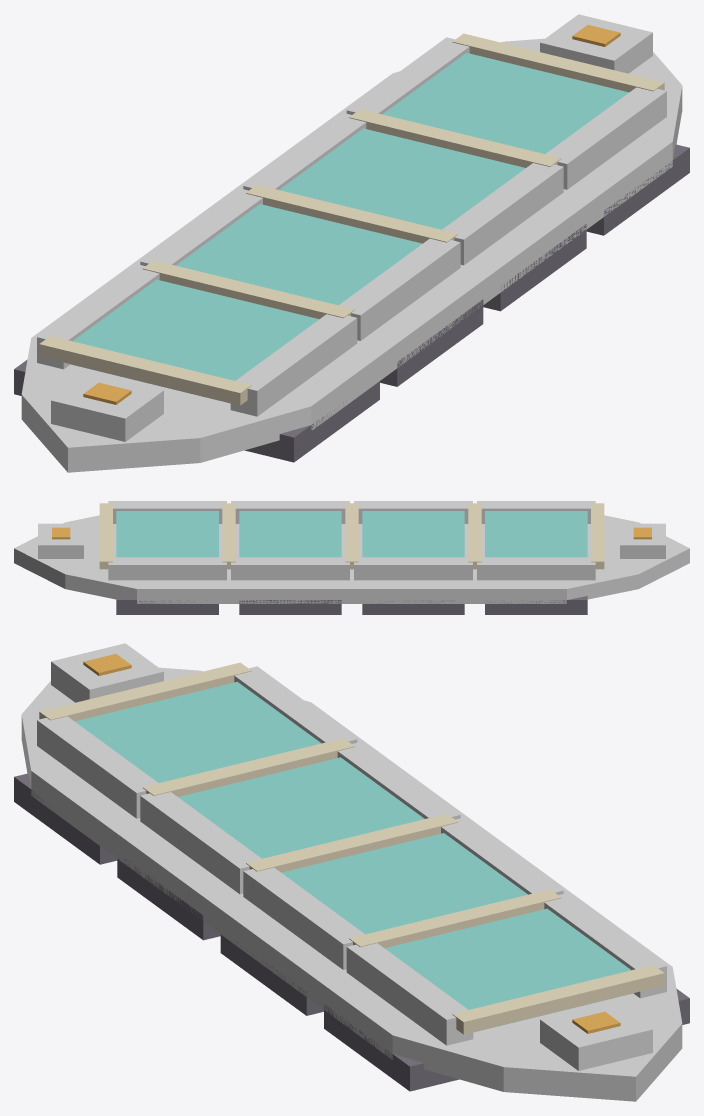
Rendered from space_road_p30.glb.
3 views of the same model, one above another, from view 1: azimuth 30°, elevation 25°; view 2: azimuth 150°, elevation 25°; view 3: azimuth 270°, elevation 25° (orthographic). The views are drawn at different scales.
Visible parts, largest first — view 1: WoodBody, FixedDetails, BrassTrim; view 2: WoodBody, FixedDetails, BrassTrim; view 3: WoodBody, FixedDetails, BrassTrim.
Boxes of the visible parts, box(x1,y1,x2,y2) form: WoodBody: box(21, 14, 682, 472); FixedDetails: box(14, 52, 689, 462); BrassTrim: box(39, 25, 664, 405); WoodBody: box(14, 501, 689, 603); FixedDetails: box(116, 511, 587, 614); BrassTrim: box(52, 503, 651, 569); WoodBody: box(21, 643, 682, 1101); FixedDetails: box(14, 681, 689, 1091); BrassTrim: box(39, 654, 664, 1034).
Bounding box in the file's own units: 0.5716 × 0.045 × 0.3927.
